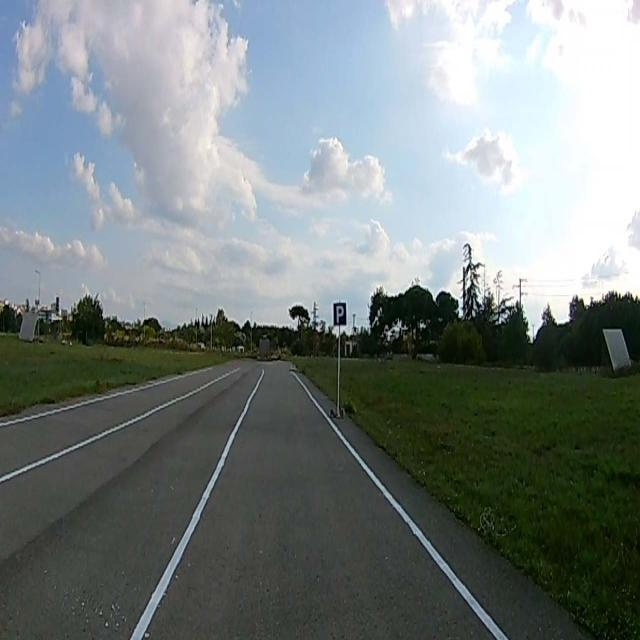park: (332, 302, 346, 326)
